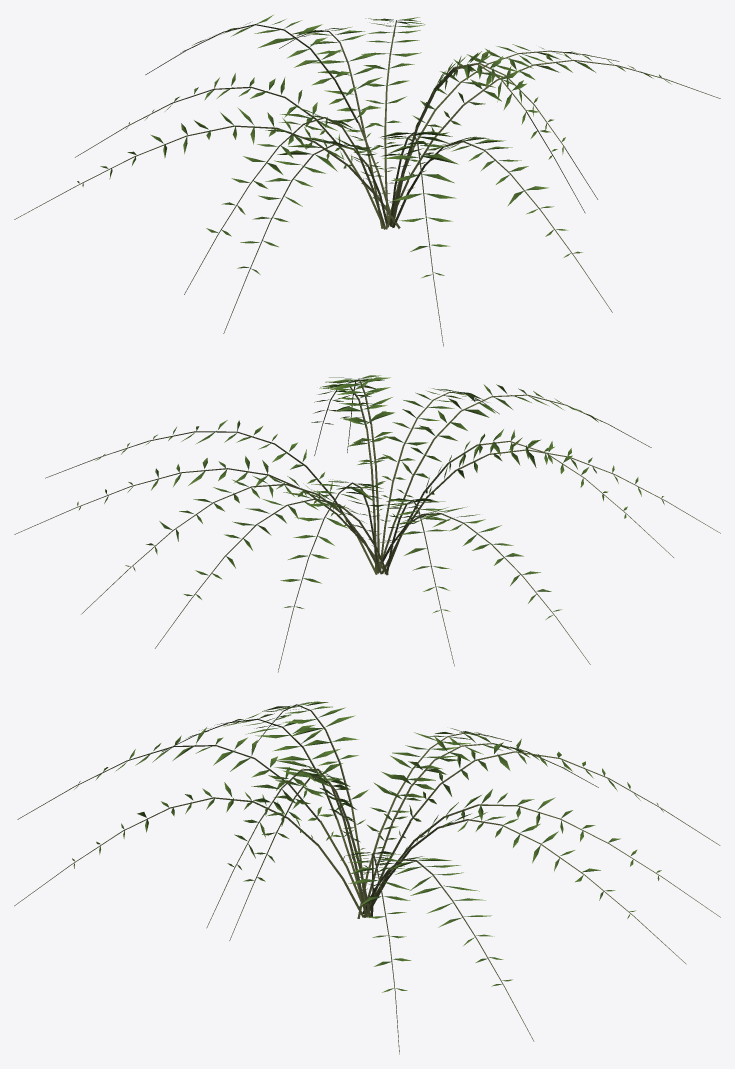
The model's file is forest_fern_002_b_LOD2.gltf.
3 renders of one model, top to bottom at view 1: azimuth 30°, elevation 25°; view 2: azimuth 150°, elevation 25°; view 3: azimuth 270°, elevation 25°, orthographic. The views are drawn at different scales.
Visible parts, largest first — view 1: forest_fern_002_b_LOD2; view 2: forest_fern_002_b_LOD2; view 3: forest_fern_002_b_LOD2.
Boxes of the visible parts, box(x1,y1,x2,y2) form: forest_fern_002_b_LOD2: box(14, 15, 720, 346); forest_fern_002_b_LOD2: box(14, 375, 720, 672); forest_fern_002_b_LOD2: box(14, 701, 720, 1054).
Size of the model in its own units: 5.14 by 1.32 by 4.86.
Materials: 1 (1 with a texture image).
